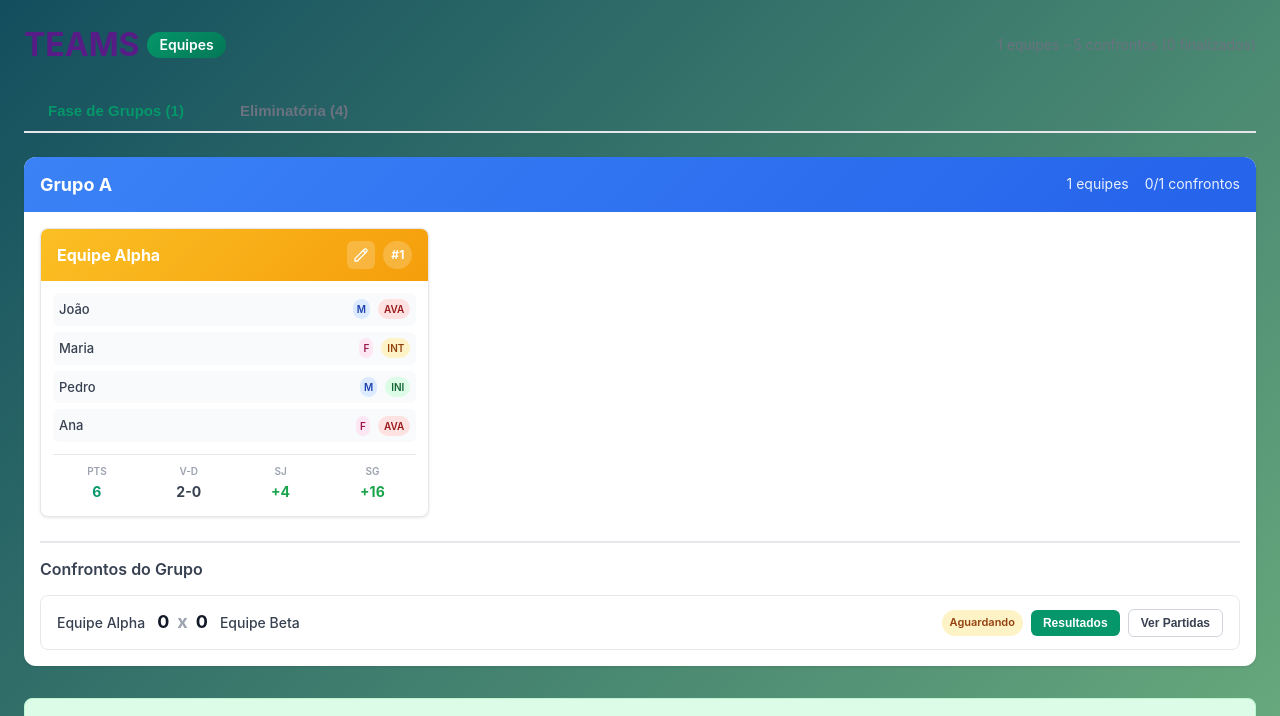
Test: ChavesTeams › fase eliminatória › deve renderizar fases eliminatórias corretamente
The image size is (1280, 716).
Click the button "Eliminatória (4)" at (294, 111), box top-left (216, 90), bottom-right (372, 133)
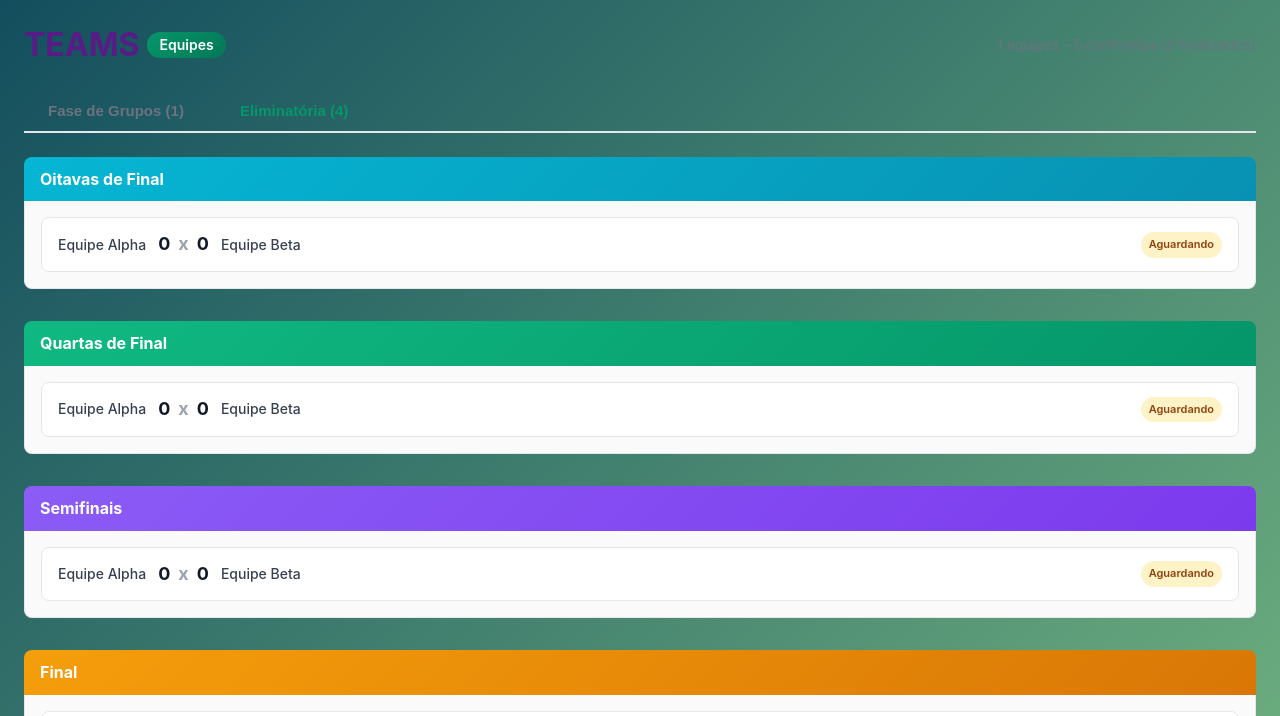
Check: the heading "Oitavas de Final" is shown, box top-left (40, 169), bottom-right (164, 189)
Check: the heading "Quartas de Final" is shown, box top-left (40, 333), bottom-right (167, 353)
Check: the heading "Semifinais" is shown, box top-left (40, 498), bottom-right (122, 518)
